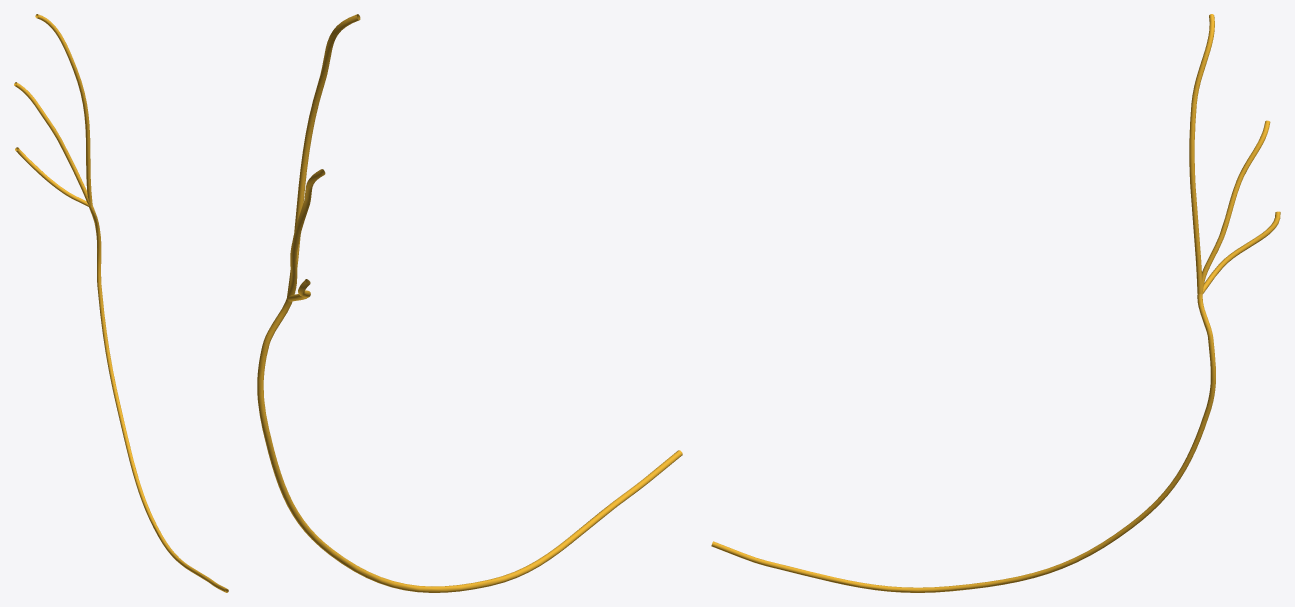
File: nervoso-pudendal-nerve-l.glb
3 views of the same model, side by side, from view 1: azimuth 30°, elevation 25°; view 2: azimuth 150°, elevation 25°; view 3: azimuth 270°, elevation 25° (orthographic). The views are drawn at different scales.
Visible parts, largest first — view 1: Pudendal nerve.l; view 2: Pudendal nerve.l; view 3: Pudendal nerve.l.
Part boxes in pixels (x1,y1,x2,y2): Pudendal nerve.l: (14,14,228,592); Pudendal nerve.l: (257,14,682,592); Pudendal nerve.l: (711,14,1280,592).
Size of the model in its own units: 0.0203 by 0.1162 by 0.105.
